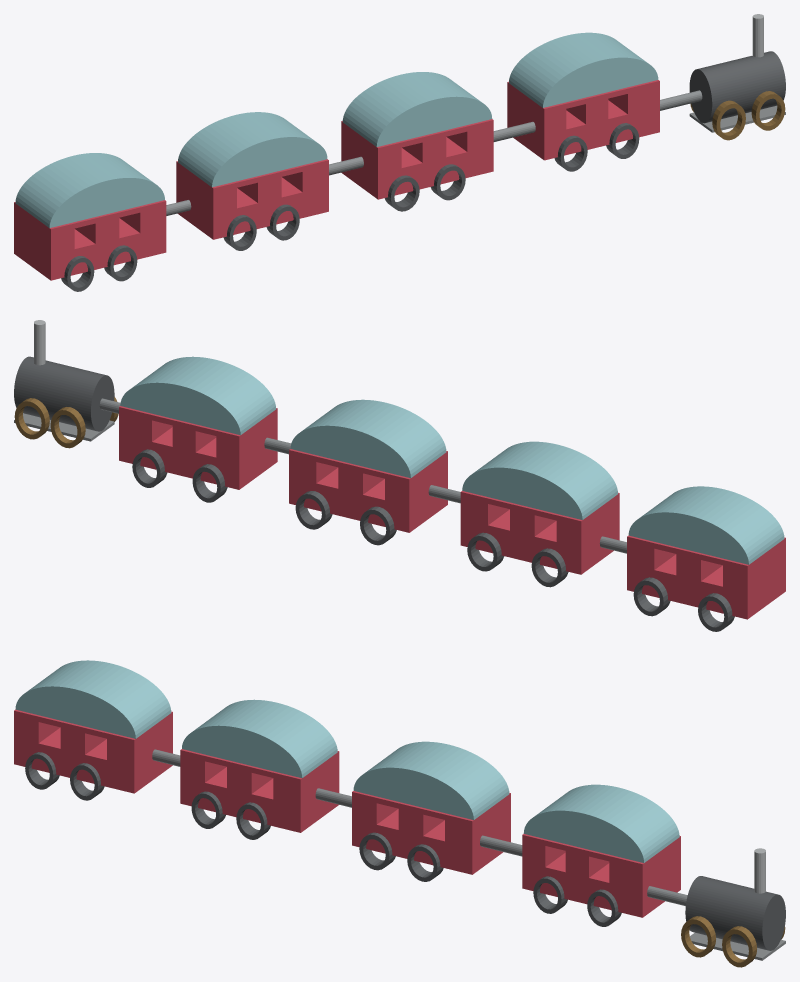
Rendered from P150 train.glb.
3 views of the same model, one above another, from view 1: azimuth 30°, elevation 25°; view 2: azimuth 150°, elevation 25°; view 3: azimuth 330°, elevation 25° (orthographic). The views are drawn at different scales.
Visible parts, largest first — view 1: Mesh_Mesh_head_geo.001_lambert2SG.001; view 2: Mesh_Mesh_head_geo.001_lambert2SG.001; view 3: Mesh_Mesh_head_geo.001_lambert2SG.001.
Part boxes in pixels (x1=…): Mesh_Mesh_head_geo.001_lambert2SG.001: x1=14, y1=14, x2=785, y2=291; Mesh_Mesh_head_geo.001_lambert2SG.001: x1=14, y1=320, x2=785, y2=631; Mesh_Mesh_head_geo.001_lambert2SG.001: x1=14, y1=660, x2=785, y2=967.
Bounding box in the file's own units: 296 × 40 × 38.
